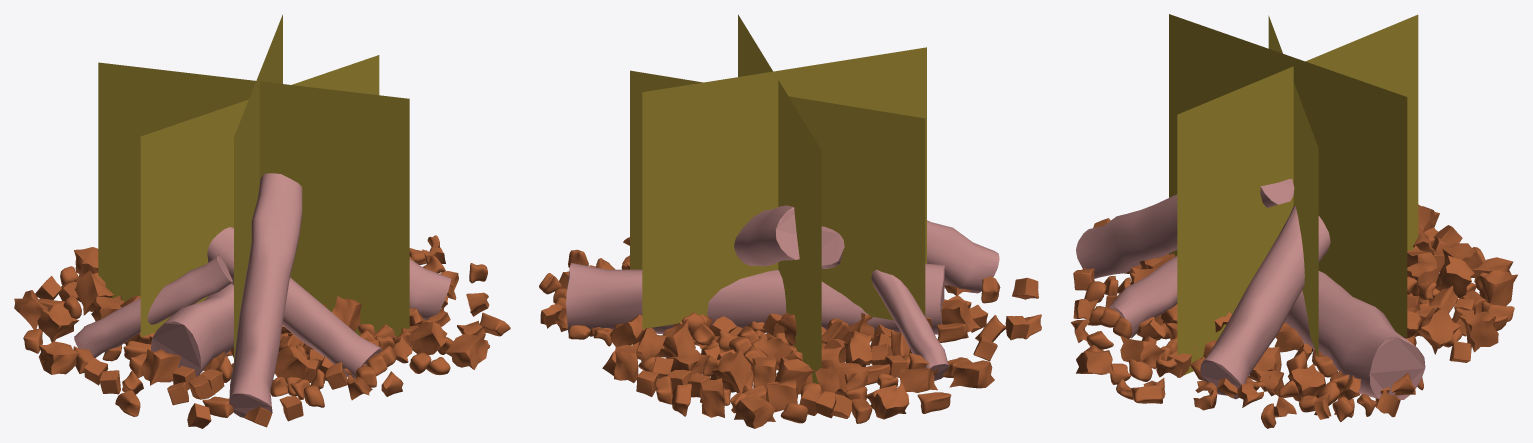
The model's file is fire.FBX.
3 renders of one model, left to right at view 1: azimuth 30°, elevation 25°; view 2: azimuth 150°, elevation 25°; view 3: azimuth 270°, elevation 25°, orthographic. The views are drawn at different scales.
Visible parts, largest first — view 1: Plane884, Box241, Plane883, Cylinder021, Plane885, Cylinder023, Cylinder019, Cylinder020, Cylinder022; view 2: Plane885, Box241, Plane883, Cylinder020, Plane884, Cylinder021, Cylinder019, Cylinder022, Cylinder023; view 3: Plane884, Box241, Plane885, Cylinder020, Cylinder022, Cylinder021, Plane883, Cylinder023.
Boxes of the visible parts, x1,y1,x2,y2 form: Plane884: [98, 62, 409, 344]; Box241: [14, 235, 510, 428]; Plane883: [140, 55, 379, 337]; Cylinder021: [229, 173, 302, 417]; Plane885: [234, 14, 282, 361]; Cylinder023: [207, 227, 381, 378]; Cylinder019: [74, 255, 232, 357]; Cylinder020: [151, 284, 233, 381]; Cylinder022: [409, 259, 451, 320]; Plane885: [642, 47, 926, 329]; Box241: [539, 237, 1041, 428]; Plane883: [630, 70, 925, 320]; Cylinder020: [566, 263, 945, 334]; Plane884: [738, 14, 821, 383]; Cylinder021: [927, 220, 999, 293]; Cylinder019: [871, 269, 949, 380]; Cylinder022: [734, 205, 799, 266]; Cylinder023: [821, 226, 844, 268]; Plane884: [1177, 14, 1418, 377]; Box241: [1070, 204, 1517, 428]; Plane885: [1169, 14, 1407, 337]; Cylinder020: [1284, 271, 1425, 399]; Cylinder022: [1200, 205, 1330, 399]; Cylinder021: [1076, 179, 1294, 278]; Plane883: [1268, 15, 1318, 357]; Cylinder023: [1109, 256, 1177, 338].
Size of the model in its own units: 22.61 by 13.26 by 19.76.
